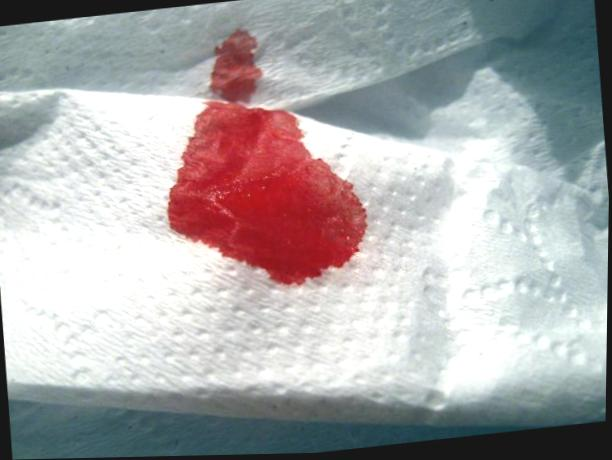Fire: (169, 30, 368, 284)
